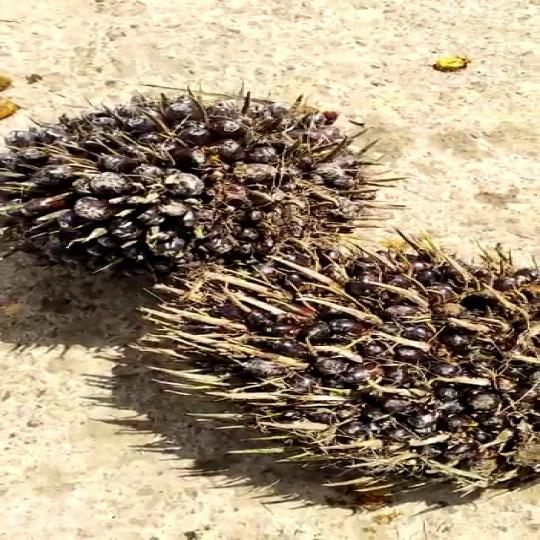mentah: (114, 252, 540, 508), (0, 85, 383, 259)
